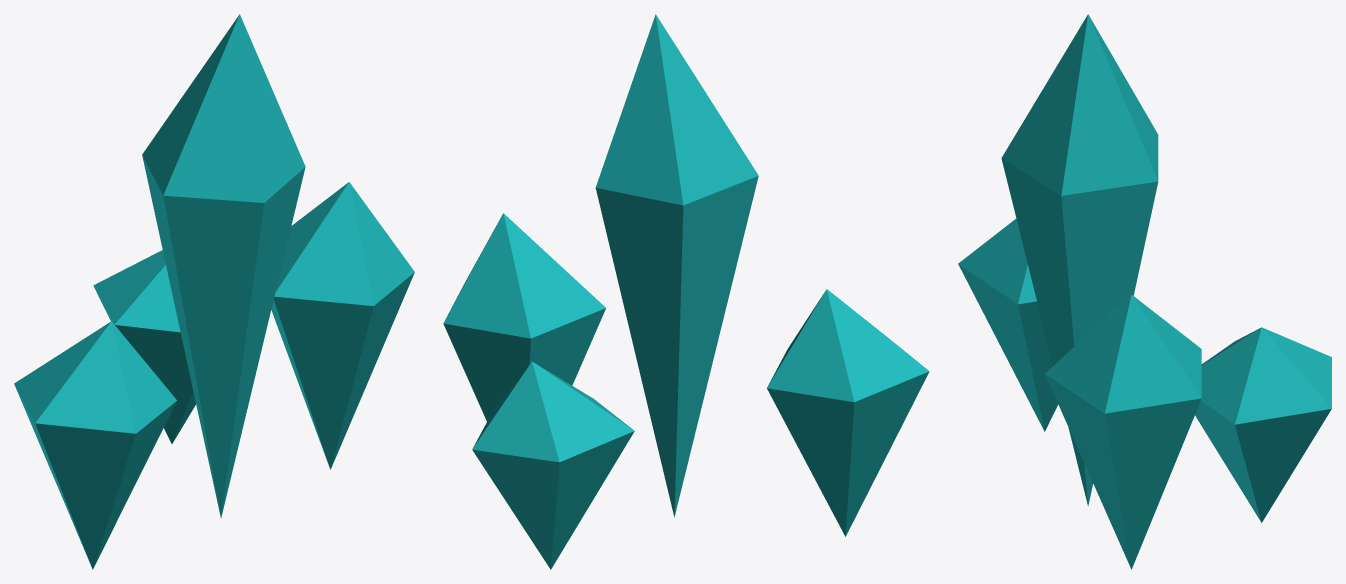
File: Cristais_arcanos_LOD1.fbx
3 renders of one model, left to right at view 1: azimuth 30°, elevation 25°; view 2: azimuth 150°, elevation 25°; view 3: azimuth 270°, elevation 25°, orthographic.
Parts seen in each view (by area): view 1: Cristais_arcanos_LOD1; view 2: Cristais_arcanos_LOD1; view 3: Cristais_arcanos_LOD1.
Boxes of the visible parts, box(x1,y1,x2,y2) form: Cristais_arcanos_LOD1: box(14, 14, 414, 569); Cristais_arcanos_LOD1: box(443, 14, 929, 569); Cristais_arcanos_LOD1: box(958, 14, 1331, 569).
Bounding box in the file's own units: 113 × 128 × 86.18.
1 material, 1 textured.
